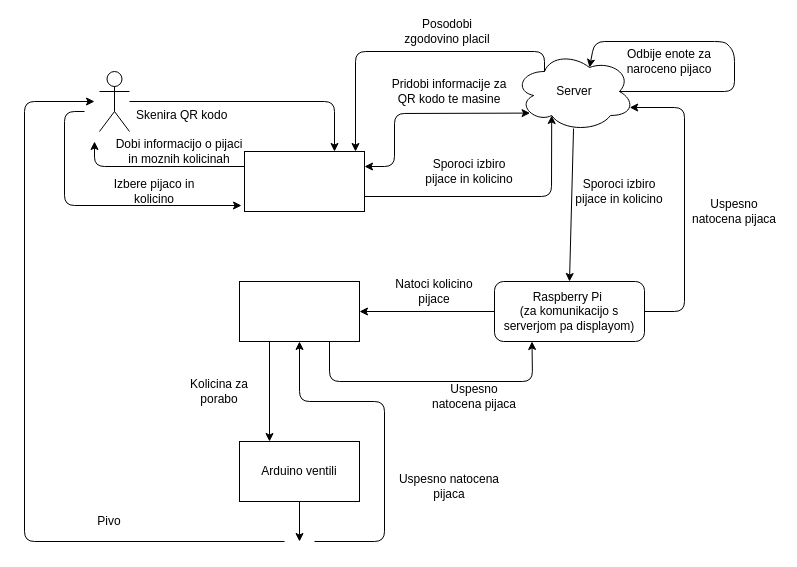
Some shapes in this 797 by 567 pixel diagram are drawn without their labels. The shapes that lost their labels are listed below. From the top down, each one's centre as x and y in pixels, then its label:
At (304,181): "Aplikacija".
At (299,311): "Arduino".
